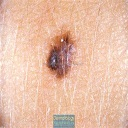Melanoma: (47, 38, 76, 76)
